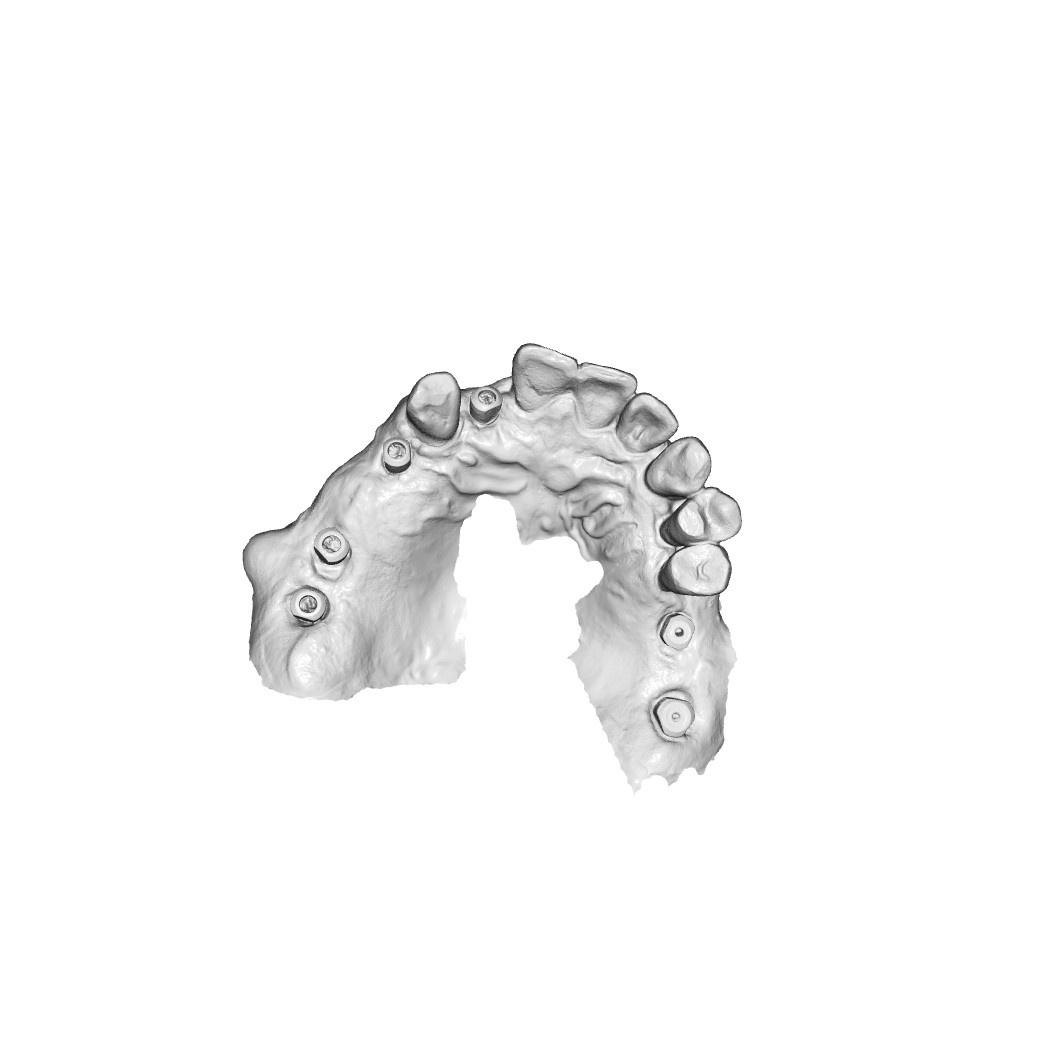canine: (643, 435, 712, 502), (410, 369, 463, 449)
implant: (654, 688, 693, 737), (289, 583, 333, 624), (661, 612, 698, 649), (314, 530, 351, 563), (475, 384, 503, 420), (382, 438, 411, 468)
incisor: (510, 340, 577, 406), (575, 364, 630, 425), (622, 397, 673, 452)
premolar: (662, 484, 742, 541), (658, 542, 731, 596)
